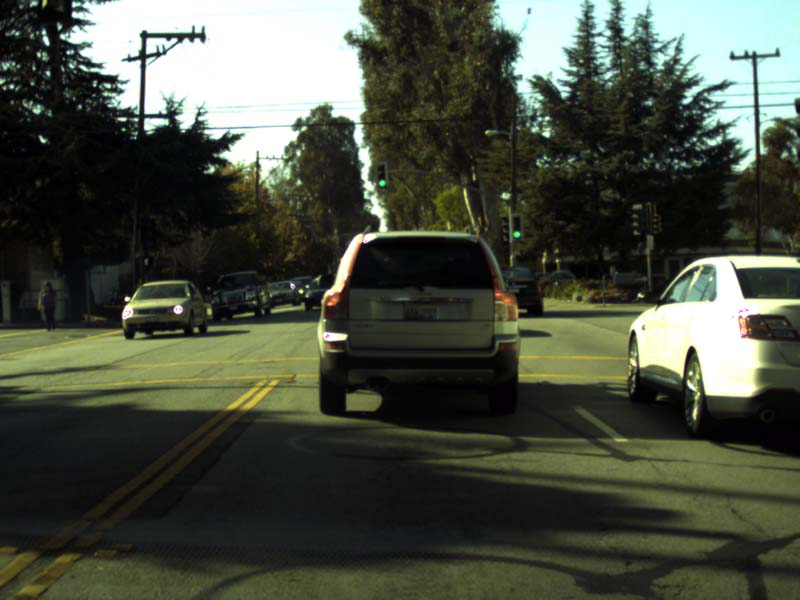Green: (377, 165, 386, 188), (512, 216, 521, 239)
